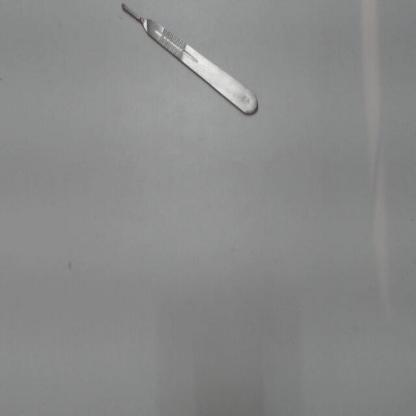No.3 BP Handle: (111, 0, 267, 132)
